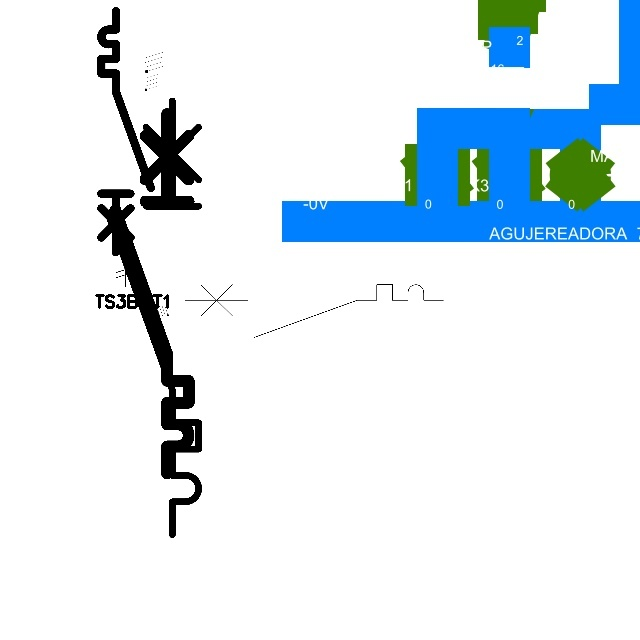interruptor_termomagnetico: (98, 89, 210, 545), (106, 104, 198, 482), (178, 278, 449, 344), (95, 5, 157, 258)
